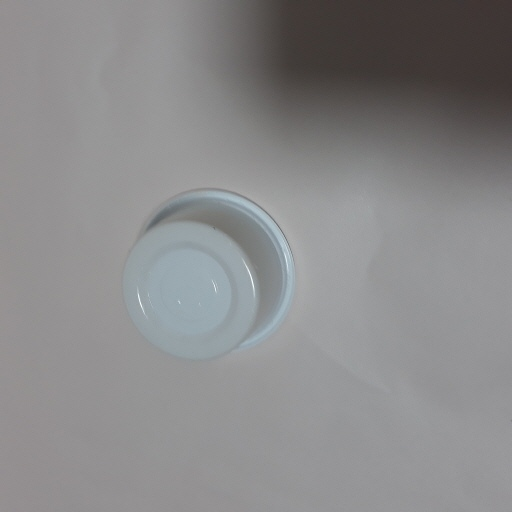Plastic_5: (117, 186, 298, 368)
